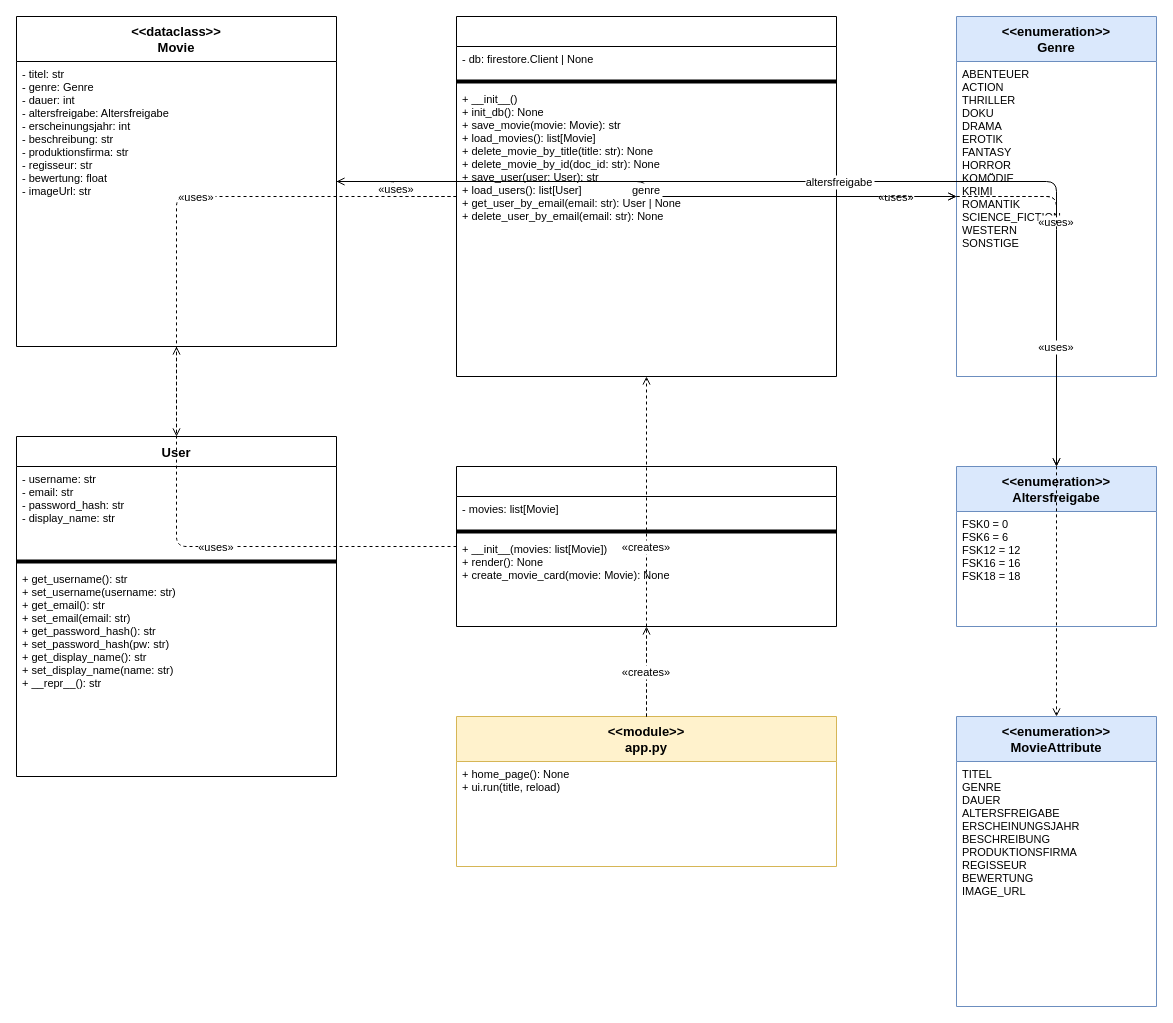
This 1173x1023 diagram has some shape labels left out. The box of each missing label's shape, as (x1, y1, x2, y2) in pixels:
Database: (456, 16, 836, 376)
Home_UI: (456, 466, 836, 626)
